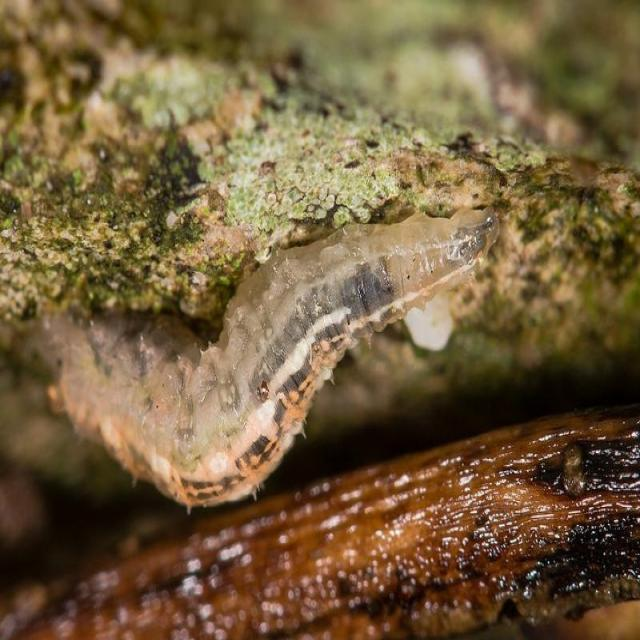grub: (41, 197, 501, 523)
